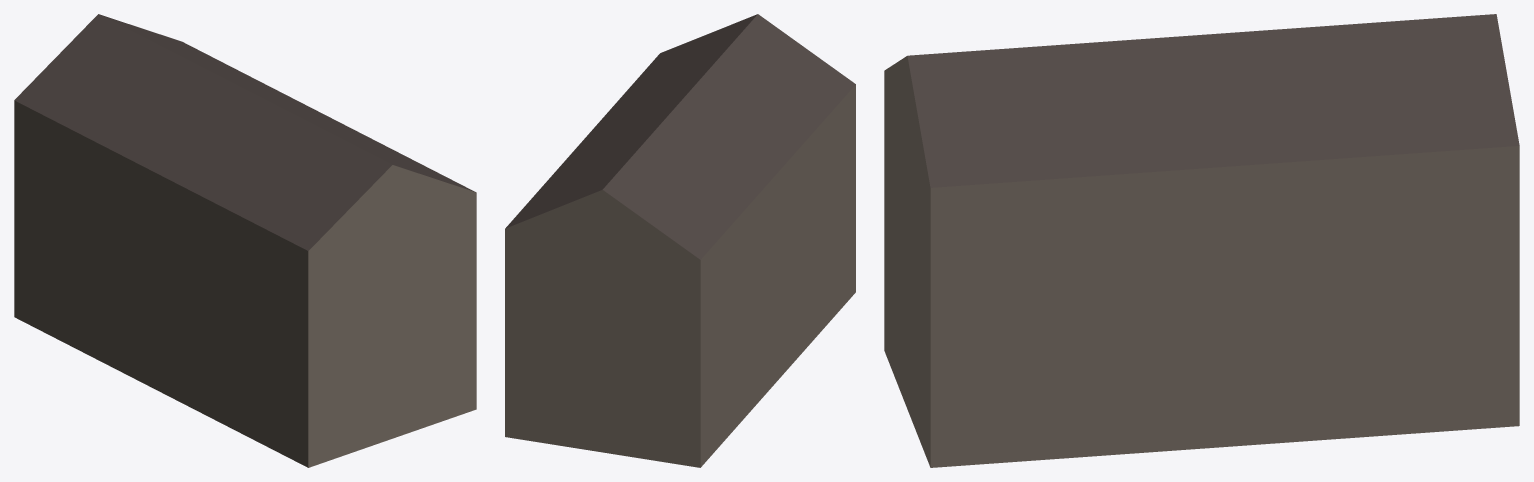
3 views of the same model, side by side, from view 1: azimuth 30°, elevation 25°; view 2: azimuth 150°, elevation 25°; view 3: azimuth 270°, elevation 25° (orthographic). The views are drawn at different scales.
Visible parts, largest first — view 1: HP-w859457493; view 2: HP-w859457493; view 3: HP-w859457493.
Part boxes in pixels (x1,y1,x2,y2): HP-w859457493: (14,14,476,467); HP-w859457493: (505,14,855,467); HP-w859457493: (884,14,1519,467).
Bounding box in the file's own units: 7.31 × 7.58 × 12.34.
